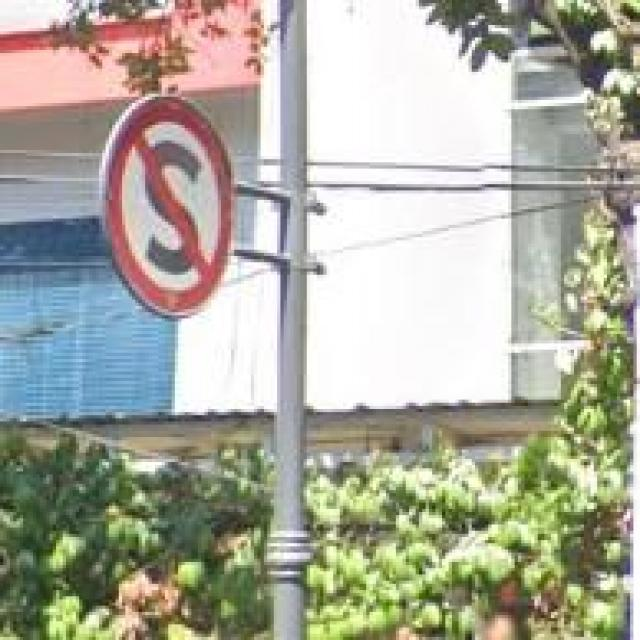traffic sign: (102, 97, 230, 312)
